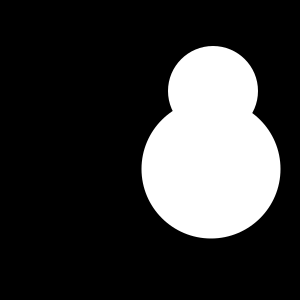rectangle: (142, 100, 280, 238), (168, 46, 258, 136)
triangle: (170, 59, 269, 158)
